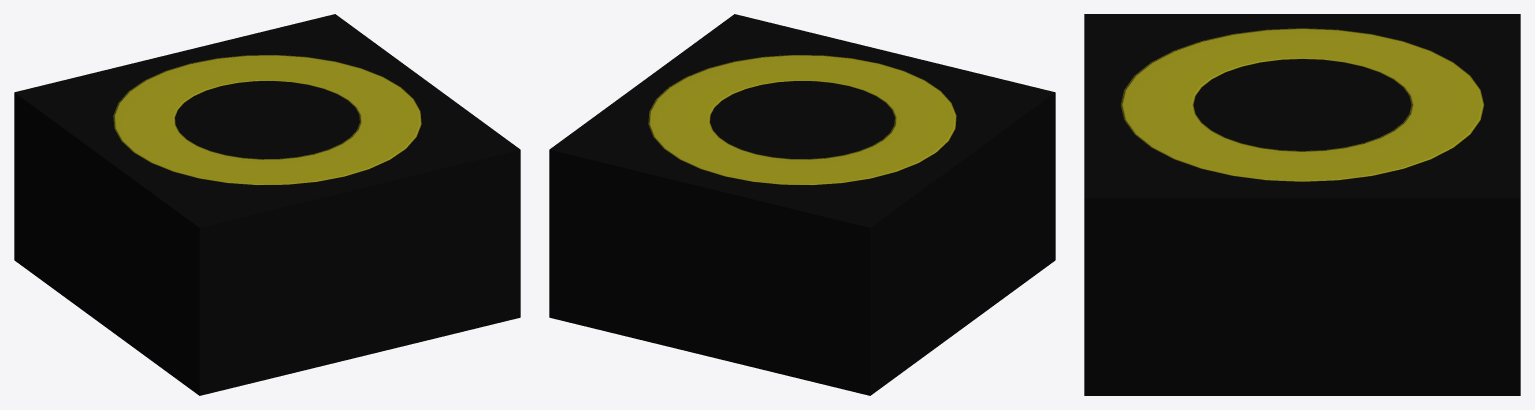
Rendered from landing-pad.obj.
The picture shows the model from 3 angles, left to right: view 1: azimuth 30°, elevation 25°; view 2: azimuth 150°, elevation 25°; view 3: azimuth 270°, elevation 25°; orthographic projection. The views are drawn at different scales.
Visible parts, largest first — view 1: pCube1, pTorus1; view 2: pCube1, pTorus1; view 3: pCube1, pTorus1.
Boxes of the visible parts, x1,y1,x2,y2 form: pCube1: (14,14,520,395); pTorus1: (113,55,421,185); pCube1: (549,14,1055,395); pTorus1: (648,55,956,185); pCube1: (1084,14,1520,395); pTorus1: (1121,28,1483,181).
Size of the model in its own units: 60 by 30.21 by 60.
